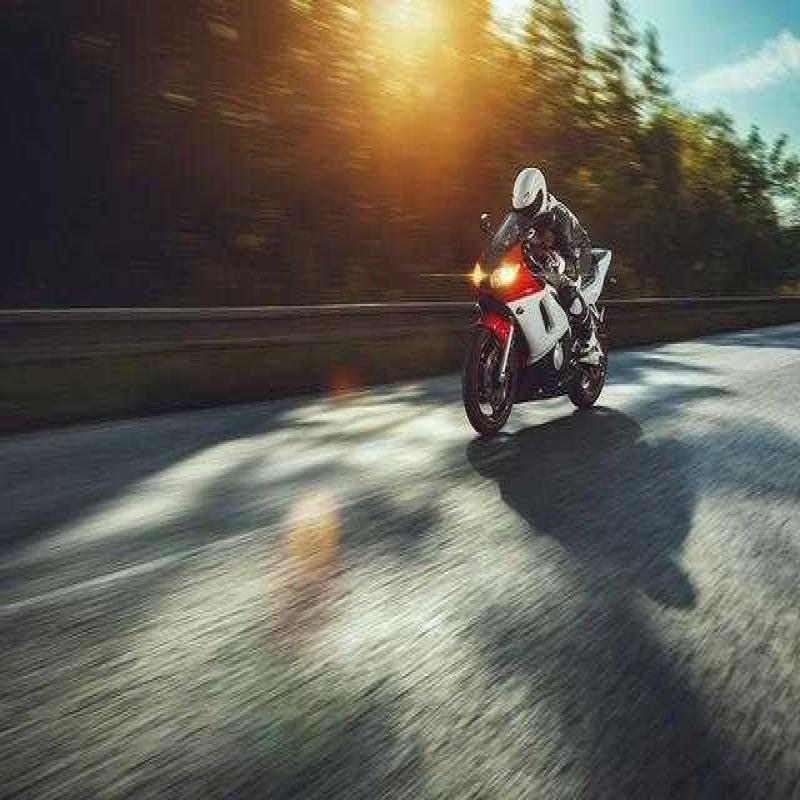bike: (455, 200, 616, 426)
